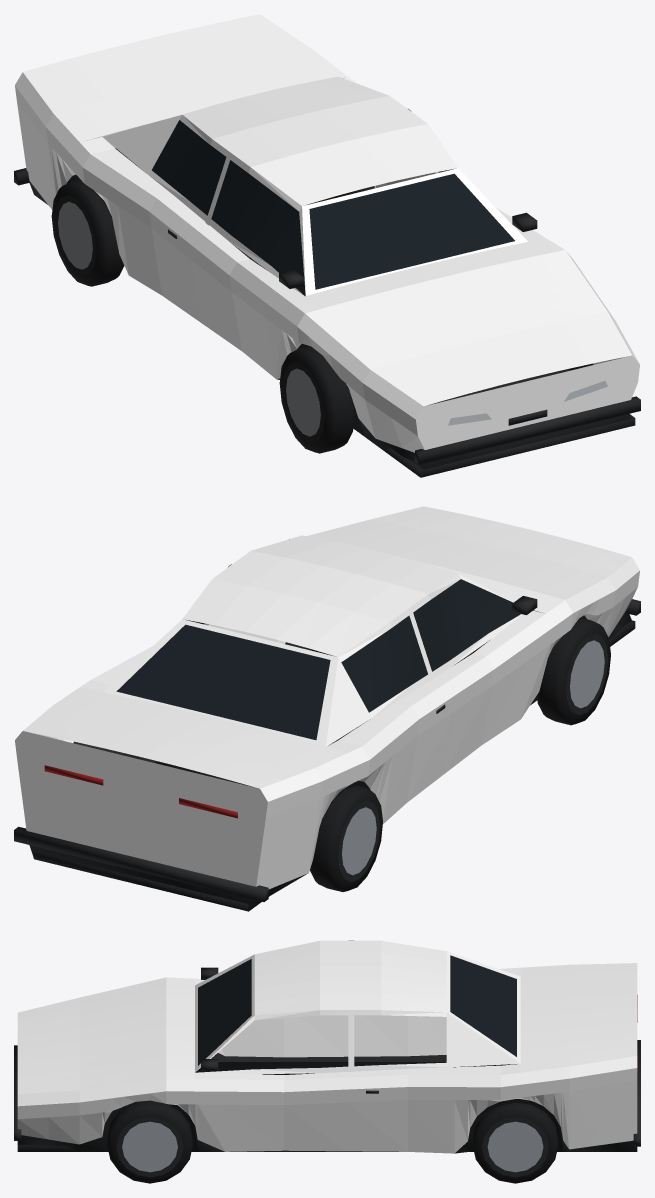
The model's file is hoshino_cobalto.glb.
3 views of the same model, one above another, from view 1: azimuth 30°, elevation 25°; view 2: azimuth 150°, elevation 25°; view 3: azimuth 270°, elevation 25° (orthographic). The views are drawn at different scales.
Visible parts, largest first — view 1: Body_Paint, Body_Details, Mount_FrontLeft_Wheel_Details, Mount_RearLeft_Wheel_Details; view 2: Body_Paint, Body_Details, Mount_RearLeft_Wheel_Details, Mount_FrontLeft_Wheel_Details; view 3: Body_Paint, Body_Details, Mount_FrontRight_Wheel_Details, Mount_RearRight_Wheel_Details.
Part boxes in pixels (left/top/right/bottom): Body_Paint: left=15, top=14, right=639, bottom=452; Body_Details: left=14, top=120, right=640, bottom=477; Mount_FrontLeft_Wheel_Details: left=279, top=346, right=354, bottom=453; Mount_RearLeft_Wheel_Details: left=51, top=179, right=124, bottom=286; Body_Paint: left=15, top=506, right=639, bottom=889; Body_Details: left=14, top=579, right=640, bottom=911; Mount_RearLeft_Wheel_Details: left=310, top=785, right=382, bottom=891; Mount_FrontLeft_Wheel_Details: left=537, top=617, right=610, bottom=725; Body_Paint: left=17, top=940, right=637, bottom=1153; Body_Details: left=14, top=955, right=640, bottom=1153; Mount_FrontRight_Wheel_Details: left=107, top=1100, right=192, bottom=1183; Mount_RearRight_Wheel_Details: left=472, top=1102, right=558, bottom=1183.
Bounding box in the file's own units: 2.01 × 1.31 × 4.74.
Materials: 2 (1 with a texture image).
